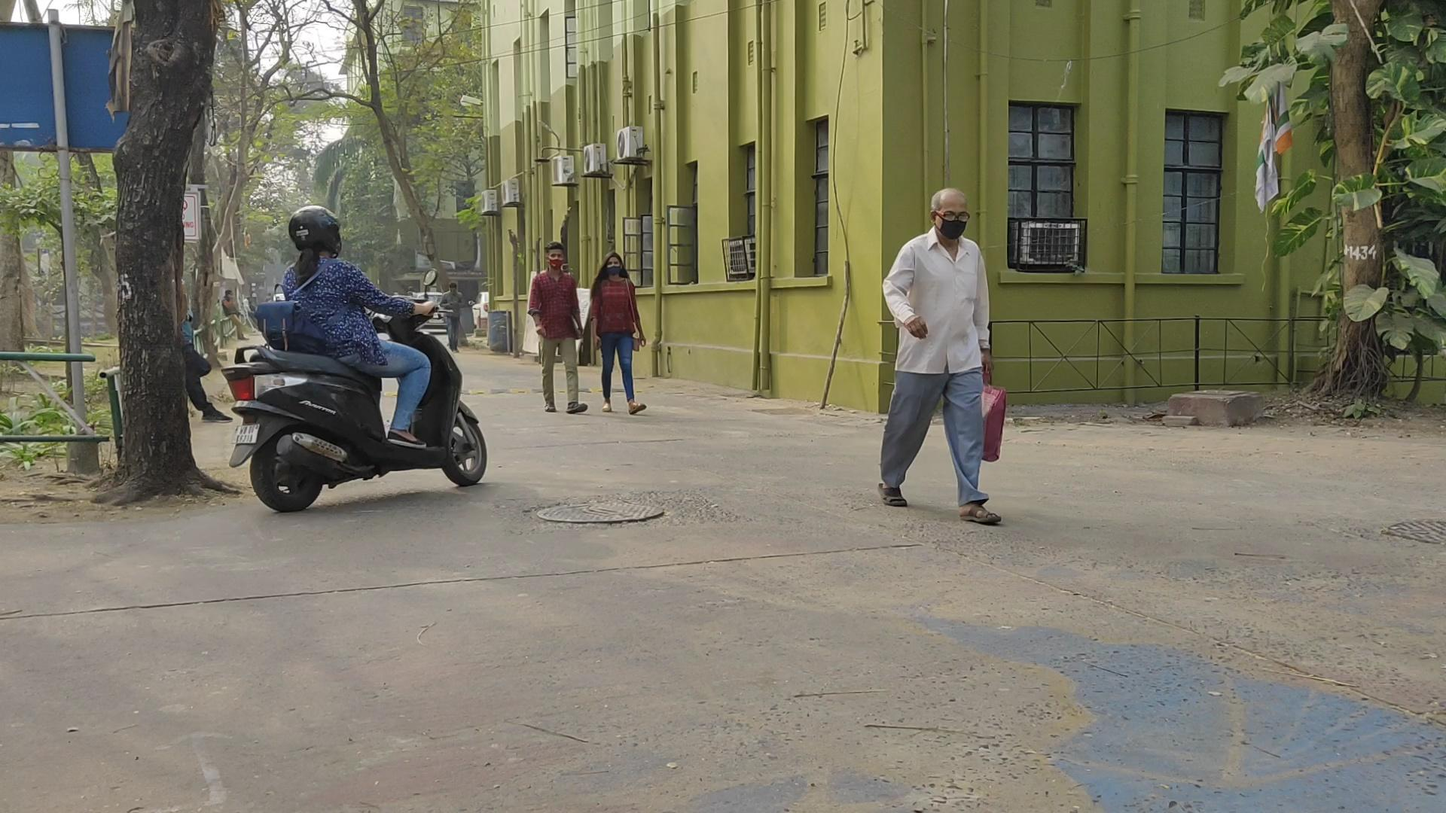bike: (225, 204, 489, 511)
